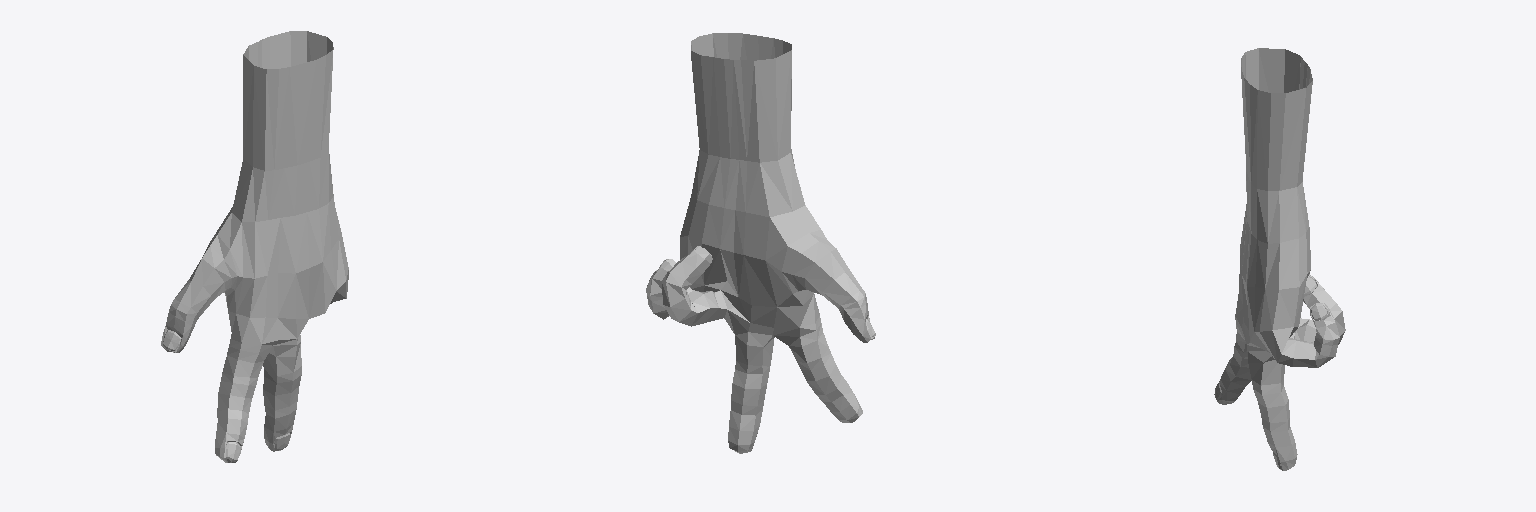
The model's file is handAnimated4_000045.obj.
3 renders of one model, left to right at view 1: azimuth 30°, elevation 25°; view 2: azimuth 150°, elevation 25°; view 3: azimuth 270°, elevation 25°, orthographic.
Visible parts, largest first — view 1: Cube.000_Cube.017_Detached_Detached; view 2: Cube.000_Cube.017_Detached_Detached; view 3: Cube.000_Cube.017_Detached_Detached.
Boxes of the visible parts, box(x1,y1,x2,y2) form: Cube.000_Cube.017_Detached_Detached: box(161, 31, 348, 462); Cube.000_Cube.017_Detached_Detached: box(646, 33, 875, 453); Cube.000_Cube.017_Detached_Detached: box(1214, 48, 1345, 470).
Bounding box in the file's own units: 0.69 × 1.34 × 0.3949.